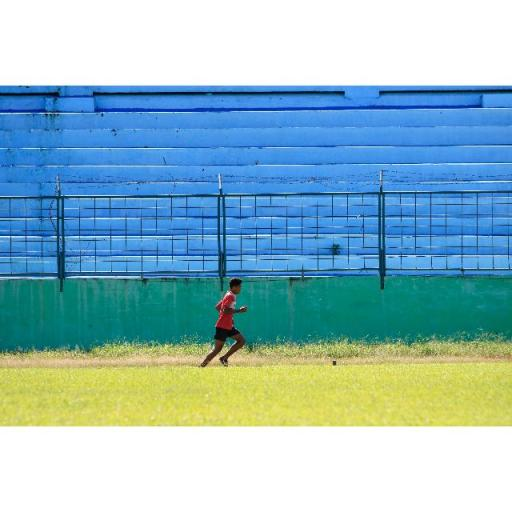Running: (193, 270, 259, 374)
